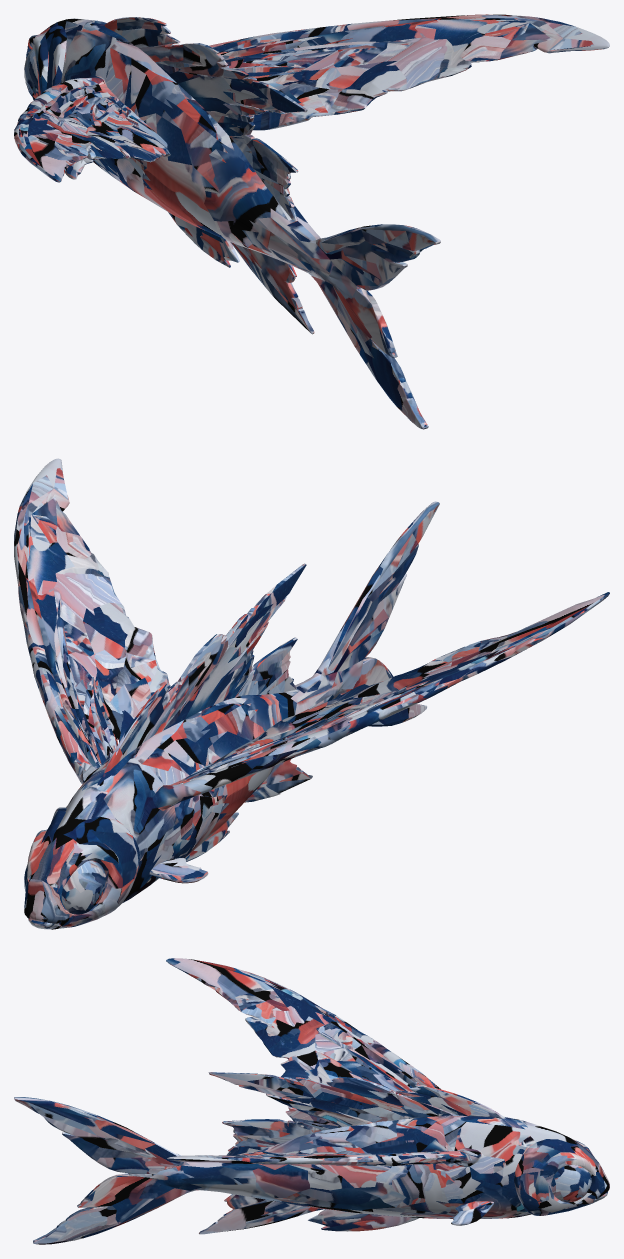
File: skyfin.fbx
The picture shows the model from 3 angles, top to bottom: view 1: azimuth 30°, elevation 25°; view 2: azimuth 150°, elevation 25°; view 3: azimuth 270°, elevation 25°; orthographic projection. The views are drawn at different scales.
Parts seen in each view (by area): view 1: output_unwrapped; view 2: output_unwrapped; view 3: output_unwrapped.
Part boxes in pixels (left/top/right/bottom): output_unwrapped: left=14, top=14, right=609, bottom=429; output_unwrapped: left=14, top=458, right=609, bottom=929; output_unwrapped: left=14, top=958, right=609, bottom=1244.
Size of the model in its own units: 1.51 by 0.6543 by 1.9.
1 material, 1 textured.
